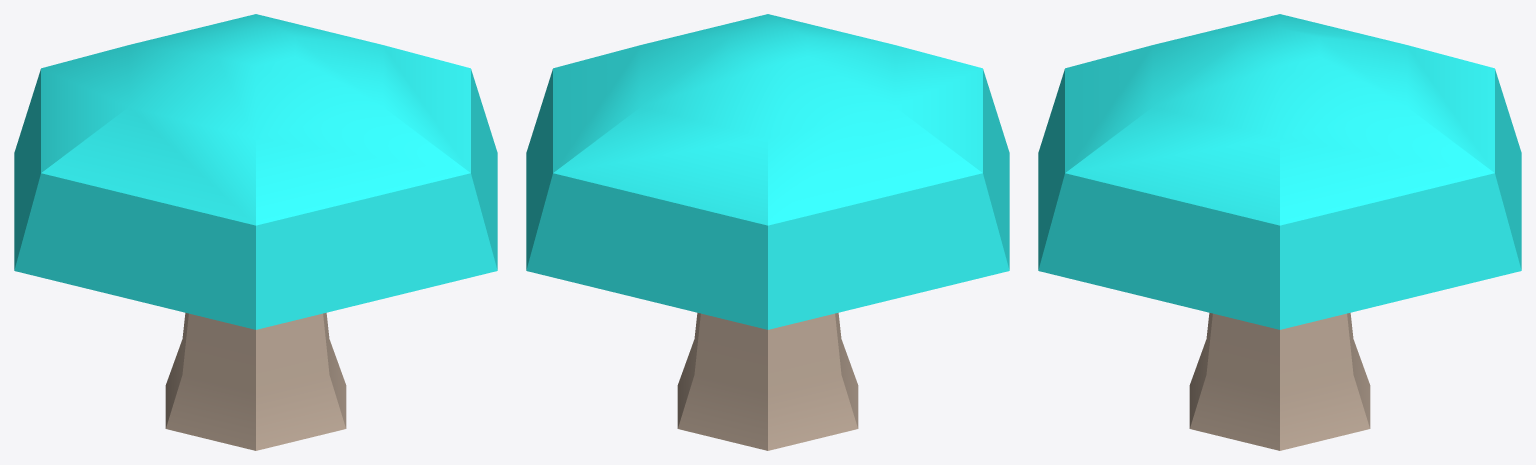
Rendered from Mushroom_Blue_02.fbx.
The picture shows the model from 3 angles, left to right: view 1: azimuth 30°, elevation 25°; view 2: azimuth 150°, elevation 25°; view 3: azimuth 270°, elevation 25°; orthographic projection.
Visible parts, largest first — view 1: Mushroom_Blue_02; view 2: Mushroom_Blue_02; view 3: Mushroom_Blue_02.
Boxes of the visible parts, x1=… form: Mushroom_Blue_02: x1=14, y1=14, x2=497, y2=450; Mushroom_Blue_02: x1=526, y1=14, x2=1009, y2=450; Mushroom_Blue_02: x1=1038, y1=14, x2=1521, y2=450.
Bounding box in the file's own units: 11.77 × 8.37 × 10.2.
